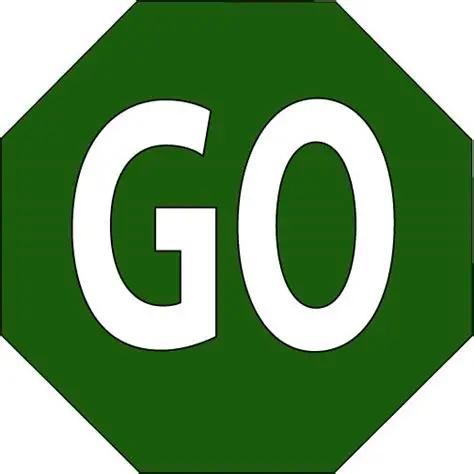Go: (0, 0, 471, 470)
